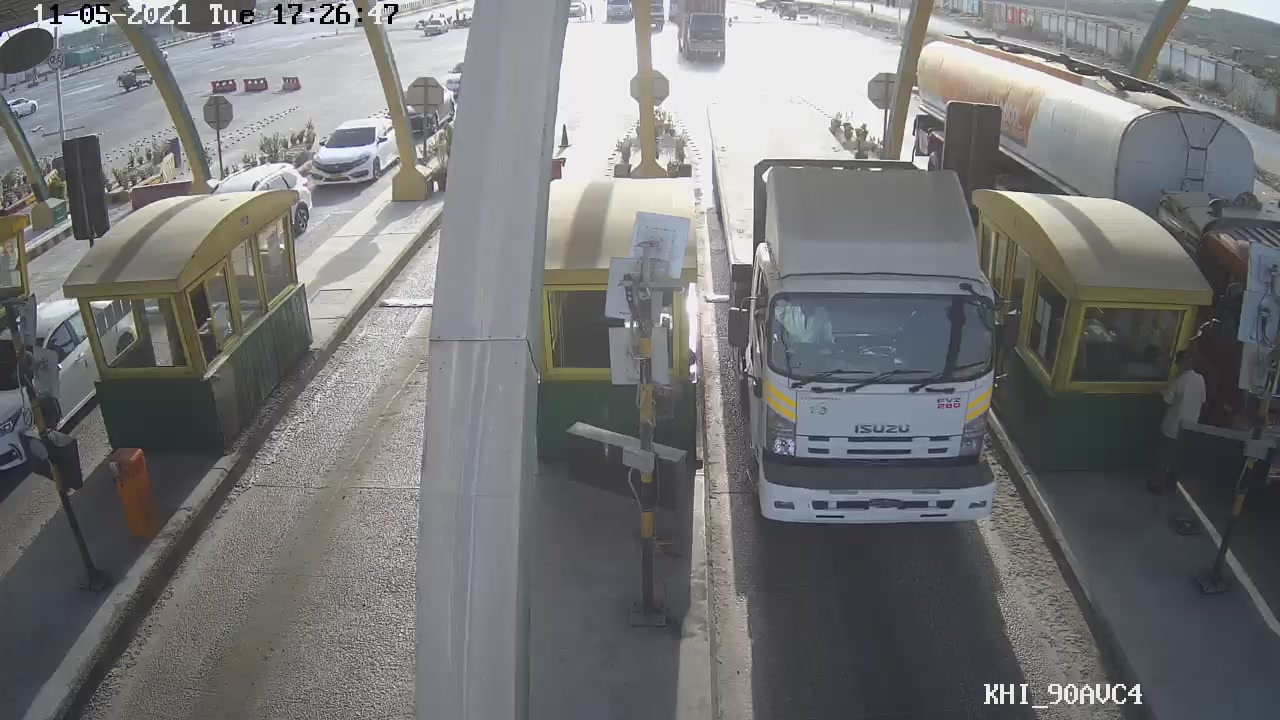F6: (703, 133, 1016, 527)
